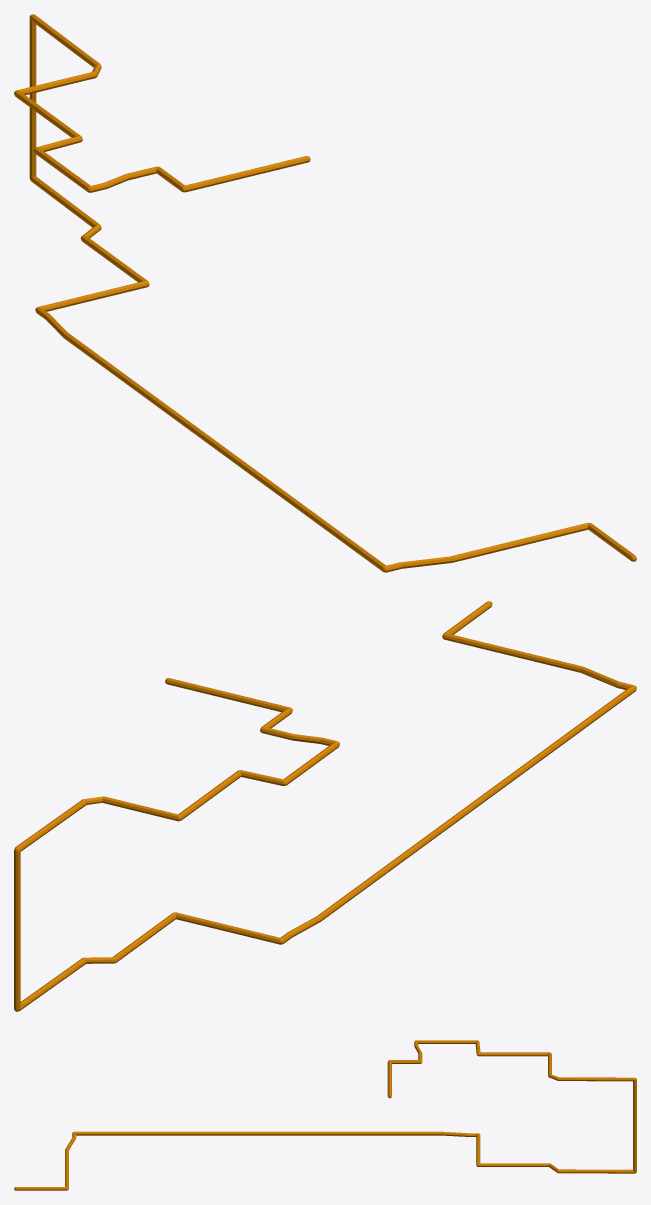
The picture shows the model from 3 angles, top to bottom: view 1: azimuth 30°, elevation 25°; view 2: azimuth 150°, elevation 25°; view 3: azimuth 270°, elevation 25°; orthographic projection. The views are drawn at different scales.
Size of the model in its own units: 662 by 520 by 3061.
